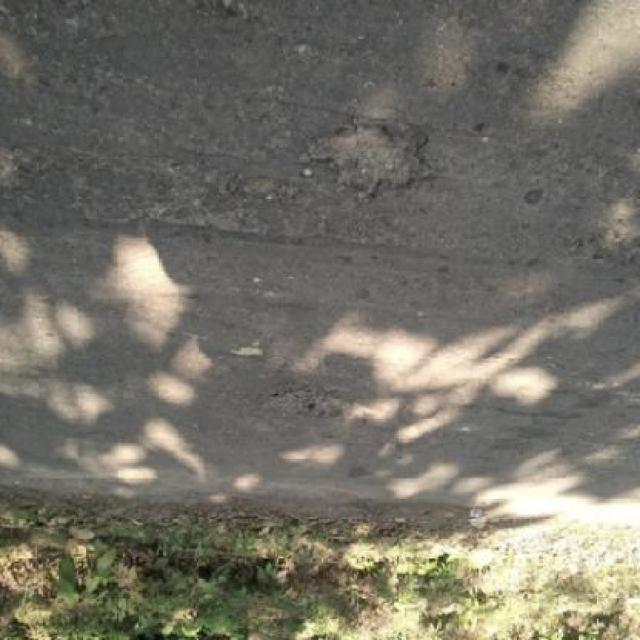pothole: (306, 117, 437, 201), (259, 382, 347, 426)
